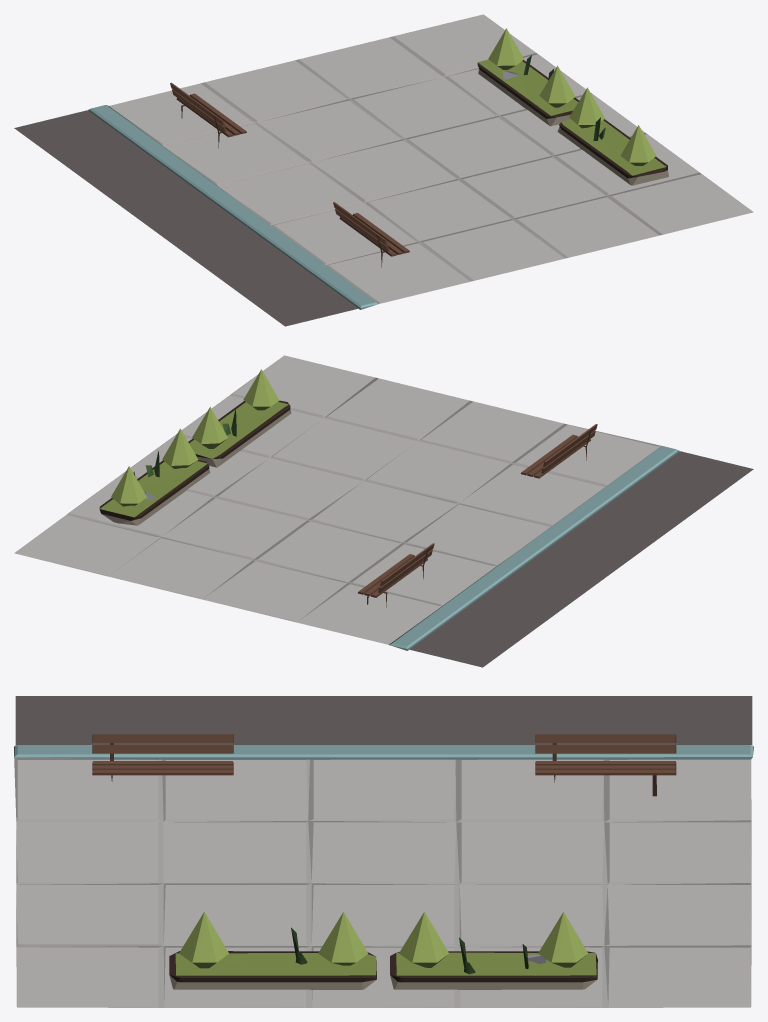
The model's file is QmNUqWDC8KAKrTJHJkD9KUvmCS4KnPwhC567o81dsd8gYo_lod2.fbx.
3 renders of one model, top to bottom at view 1: azimuth 30°, elevation 25°; view 2: azimuth 150°, elevation 25°; view 3: azimuth 270°, elevation 25°, orthographic. The views are drawn at different scales.
Parts seen in each view (by area): view 1: Entity_512; view 2: Entity_512; view 3: Entity_512.
Part boxes in pixels (<box>): Entity_512: <box>14,14,753,326</box>; Entity_512: <box>14,355,753,667</box>; Entity_512: <box>14,696,753,1007</box>.
Size of the model in its own units: 15918 by 1591 by 16000.
Materials: 1 (1 with a texture image).
